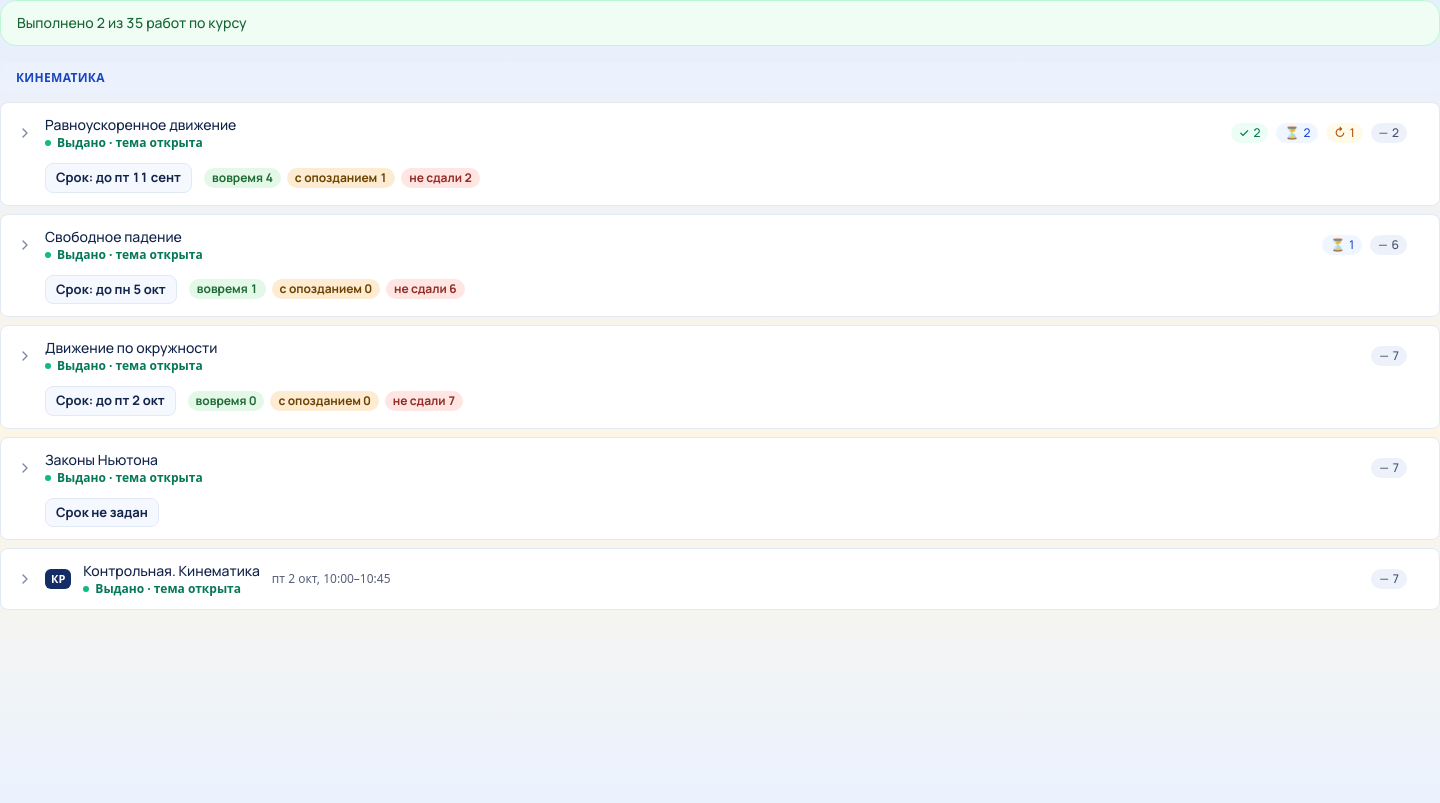
Scenario: Срок ДЗ в таблице «По темам» (§259) › колонка «Срок»: вовремя (и в 23:40 дня срока, и после пересдачи), опоздание, просрочено (и у черновика)
Click the text "Равноускоренное движение": x=141, y=125 [45, 115, 236, 135]
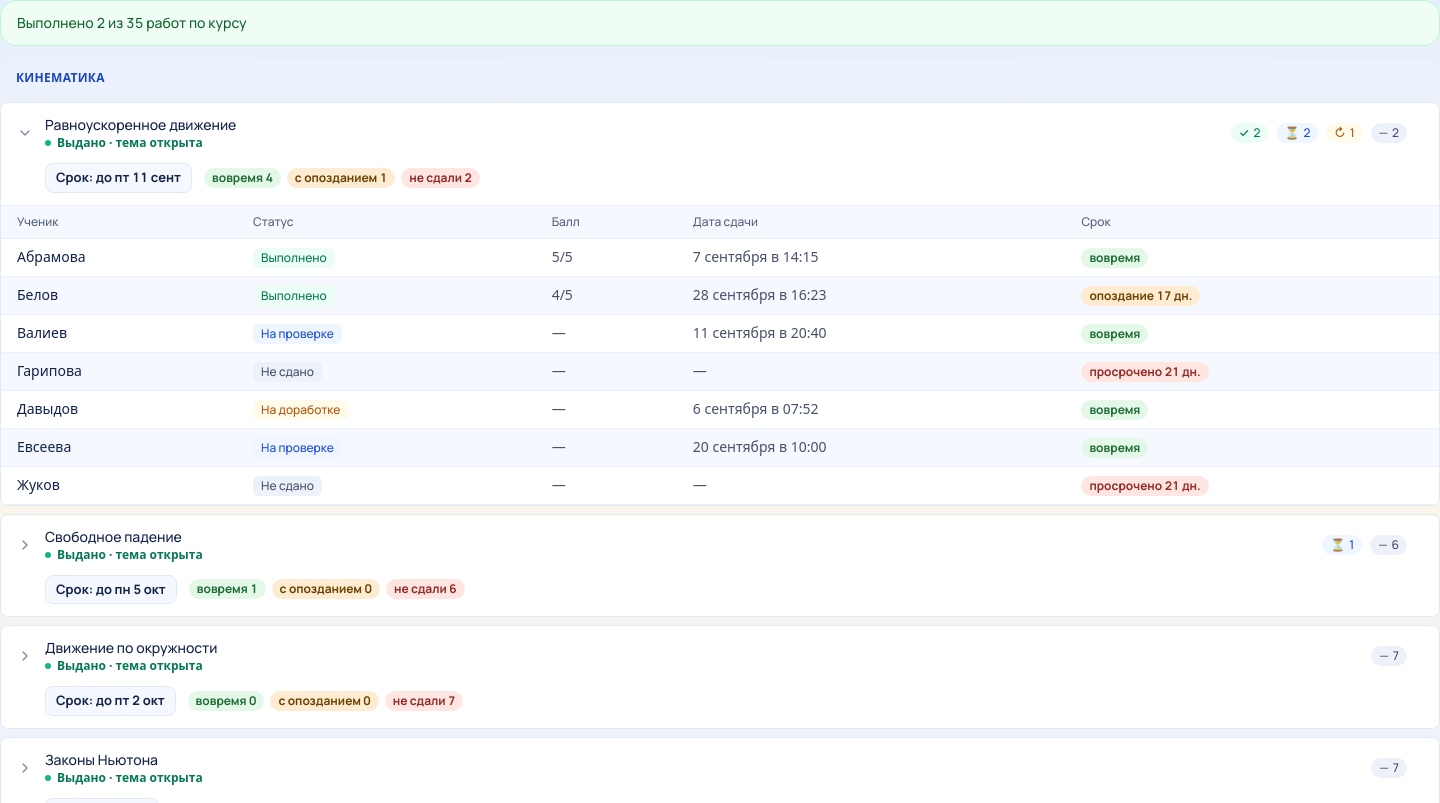
Check: the column headings read "Ученик", "Статус", "Балл", "Дата сдачи", "Срок", in this order, box [1, 206, 237, 238]; [237, 206, 536, 238]; [536, 206, 677, 238]; [677, 206, 1065, 238]; [1065, 206, 1439, 238]
Check: the text with test id "hw-deadline" in the row of "Абрамова" reads "вовремя", box [1089, 248, 1140, 266]
Check: the text with test id "hw-deadline" reads "опоздание 17 дн.", box [1089, 286, 1192, 304]
